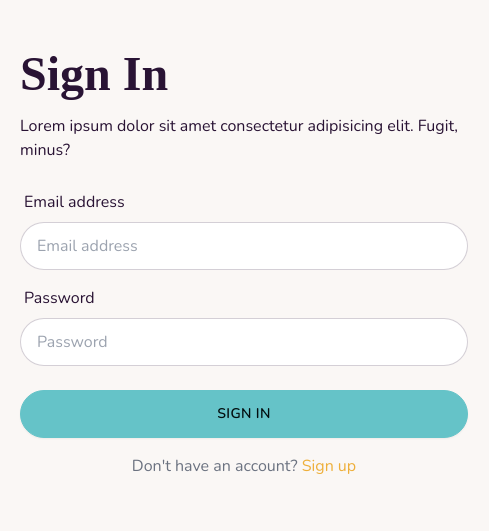
Test: User login › should show field specific error messages
The width and height of the screenshot is (489, 531).
Click the submit button at (244, 414), box [20,390,468,438]
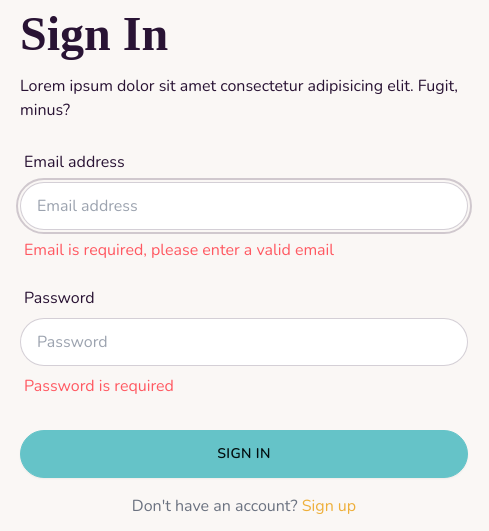
Expected: the text with class "label-text-alt" shows "Email is required", [24,239,334,261]
Expected: the text with class "label-text-alt" reads "Password is required", [24,375,174,397]
